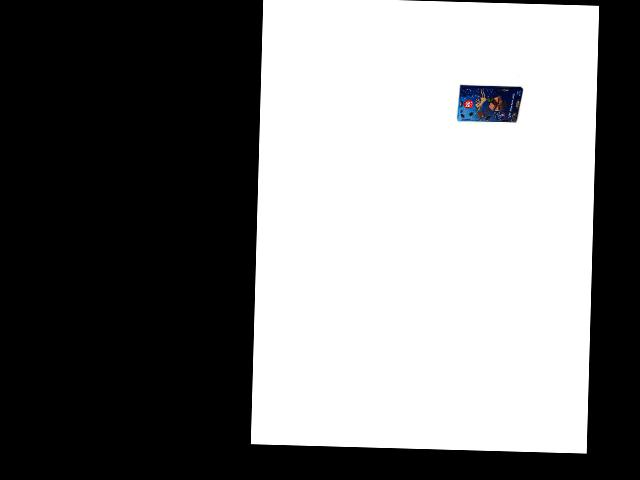chocolate: (455, 80, 523, 127)
